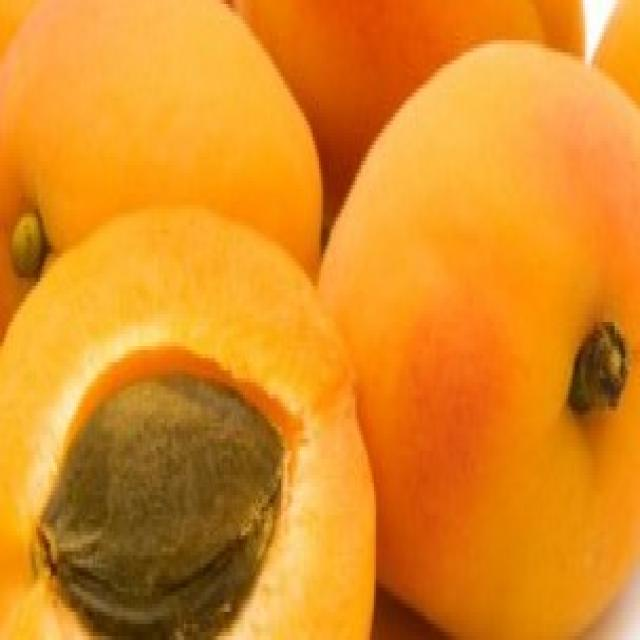Cekirdek: (40, 374, 281, 636)
Kayisi: (321, 40, 638, 636)
